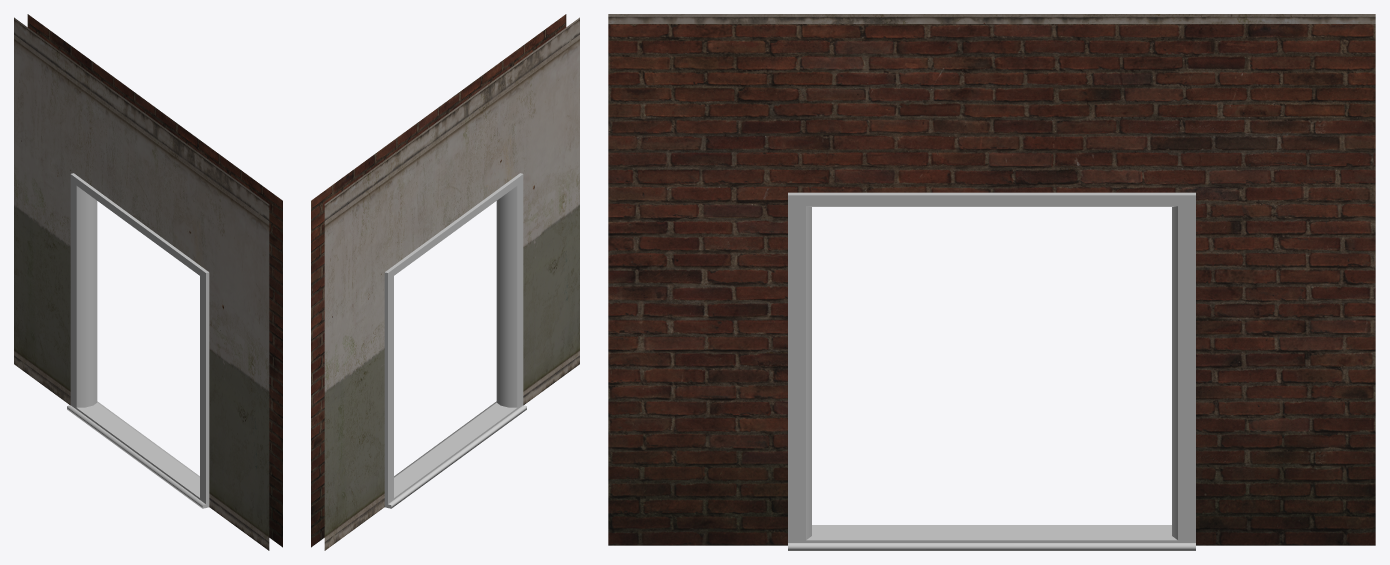
File: wall_doorbig_tile_256x8x192.fbx
3 views of the same model, side by side, from view 1: azimuth 30°, elevation 25°; view 2: azimuth 150°, elevation 25°; view 3: azimuth 270°, elevation 25° (orthographic). The views are drawn at different scales.
Parts seen in each view (by area): view 1: wall_doorbig_tile_256x16x192; view 2: wall_doorbig_tile_256x16x192; view 3: wall_doorbig_tile_256x16x192.
Boxes of the visible parts, <box> form: wall_doorbig_tile_256x16x192: <box>14,14,282,550</box>; wall_doorbig_tile_256x16x192: <box>311,14,579,550</box>; wall_doorbig_tile_256x16x192: <box>608,14,1375,550</box>.
Size of the model in its own units: 16 by 192 by 256.
